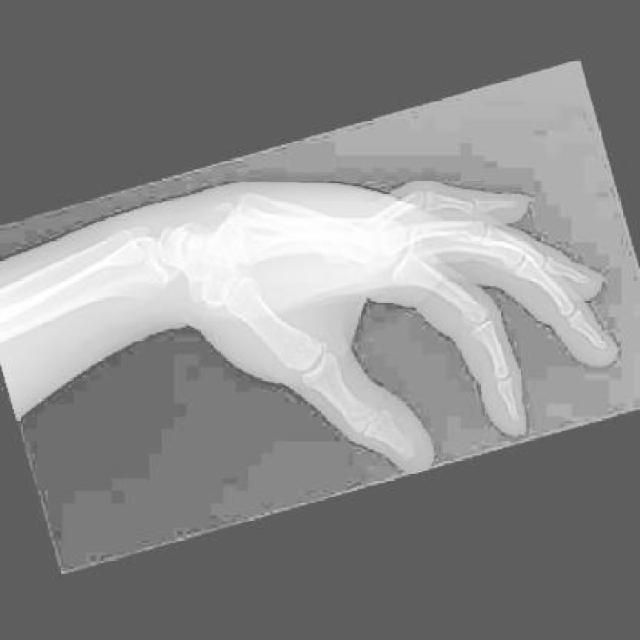Fracture: (223, 176, 279, 227), (220, 203, 274, 246)
